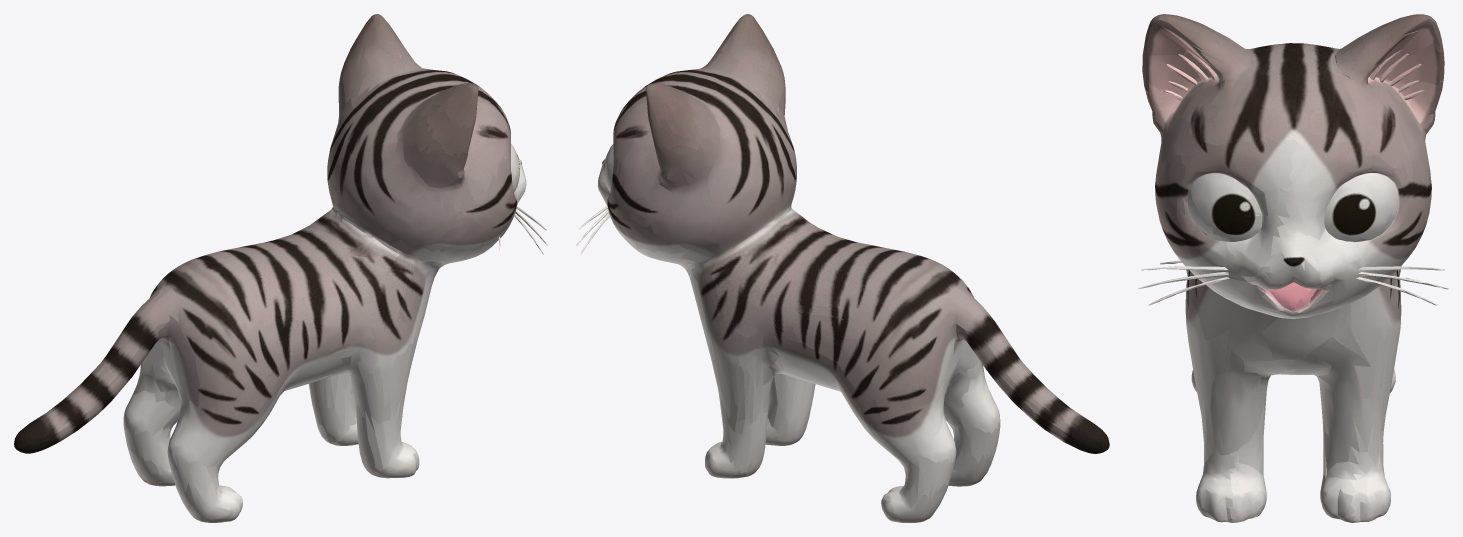
The model's file is CHISWEET.glb.
The picture shows the model from 3 angles, left to right: view 1: azimuth 30°, elevation 25°; view 2: azimuth 150°, elevation 25°; view 3: azimuth 270°, elevation 25°; orthographic projection. The views are drawn at different scales.
Visible parts, largest first — view 1: fit; view 2: fit; view 3: fit.
Boxes of the visible parts, x1,y1,x2,y2 form: fit: (14,14,547,522); fit: (576,14,1109,522); fit: (1138,14,1448,522).
Bounding box in the file's own units: 1.36 × 1 × 0.5302.
1 material, 1 textured.
